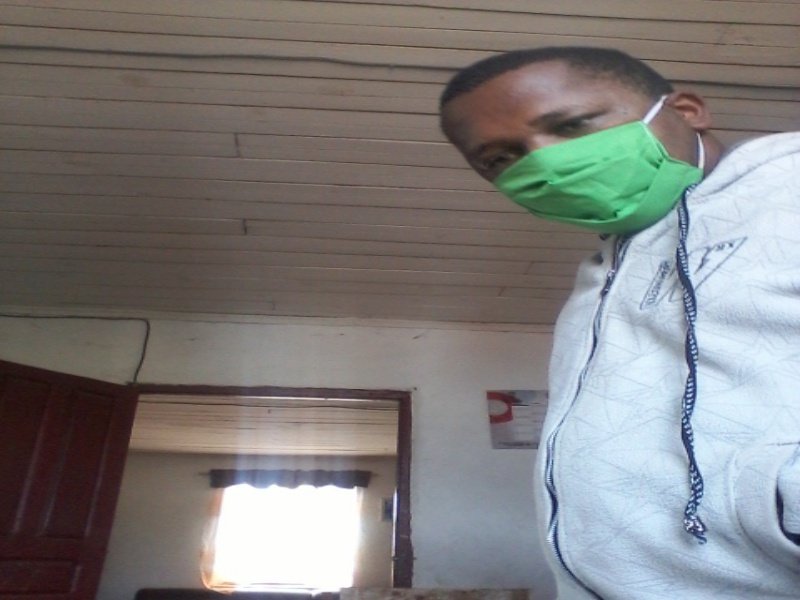ManaoArotava: (425, 36, 724, 244)
